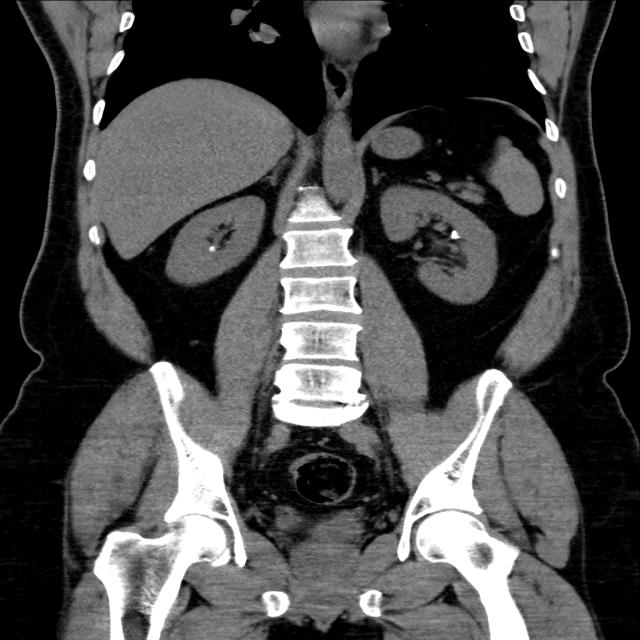kidneystone: (450, 230, 458, 239), (208, 245, 216, 252)
